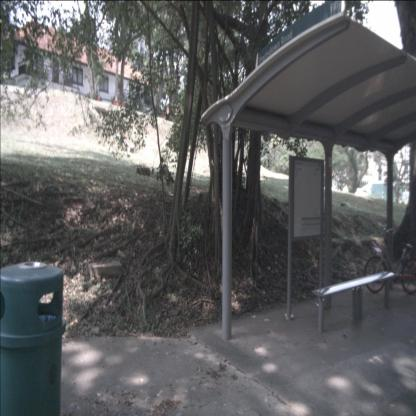vehicle-bicycle: (364, 224, 416, 294)
